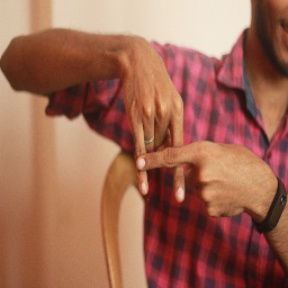H: (122, 99, 222, 198)
